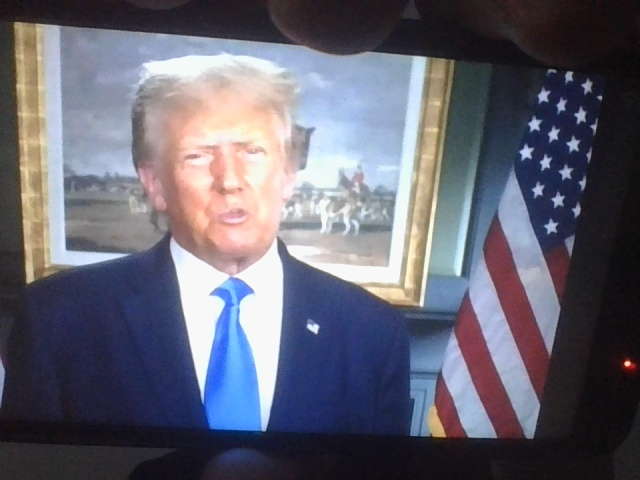fake: (149, 42, 312, 273)
